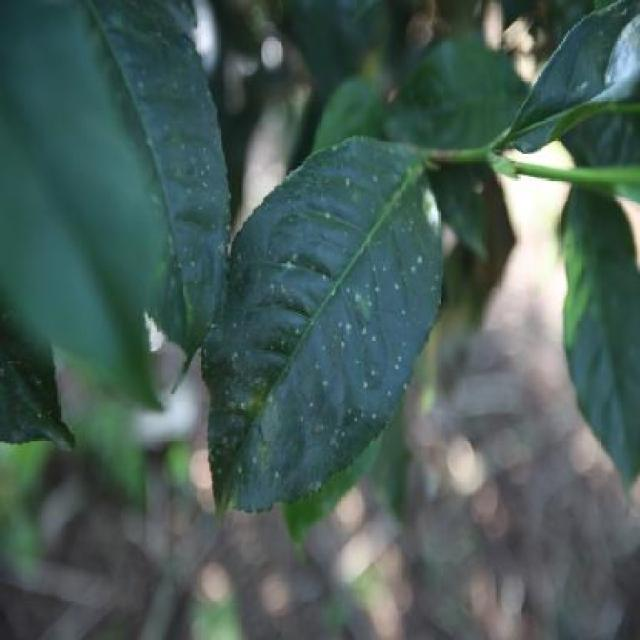White spot of tea: (200, 103, 443, 574)
